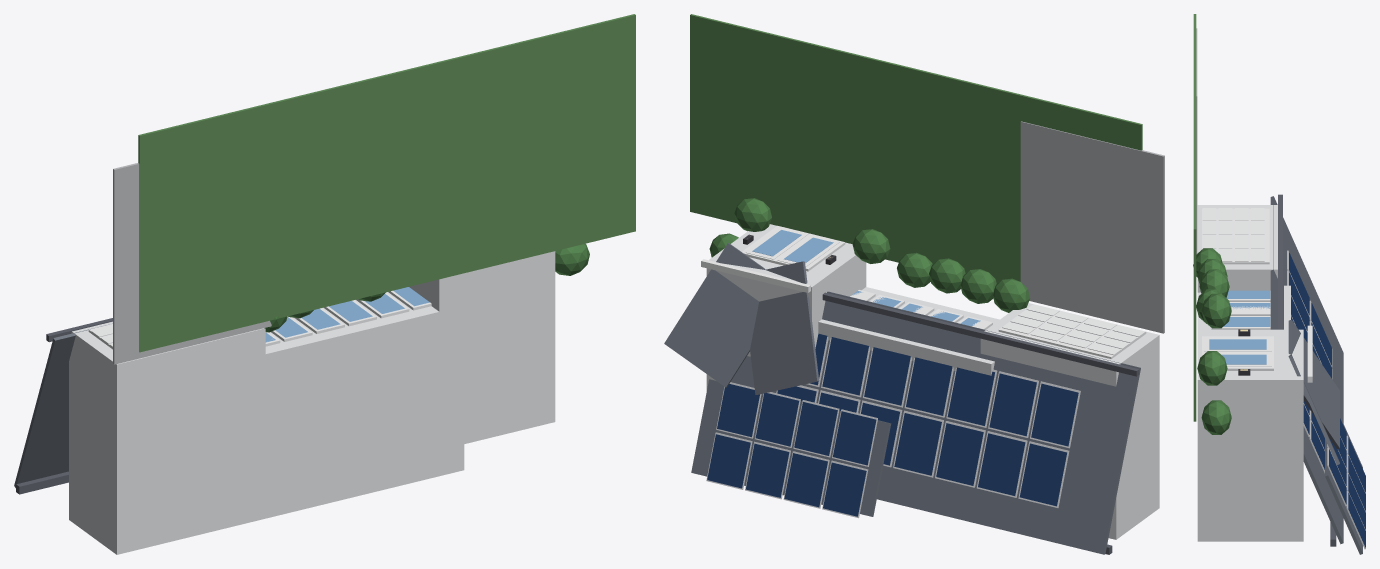
Rendered from house.glb.
3 renders of one model, left to right at view 1: azimuth 30°, elevation 25°; view 2: azimuth 150°, elevation 25°; view 3: azimuth 270°, elevation 25°, orthographic. The views are drawn at different scales.
Parts seen in each view (by area): view 1: Lawn_Front_Grass, Wall_Garage_Wing, Wall_Center_Living, Wall_Entrance_Pavilion, Driveway_Concrete, Roof_Main_Pitched, Shrub_6; view 2: Lawn_Front_Grass, Driveway_Concrete, Roof_Main_Pitched, Wall_Garage_Wing, Roof_Entrance_Gable_Right, Roof_Entrance_Gable_Left, Wall_Entrance_Pavilion, Roof_Clerestory_Upper, Wall_Center_Living, Roof_Front_Gutter, Solar_Glass_1_0, Solar_Glass_1_1 (+28 smaller); view 3: Wall_Entrance_Pavilion, Roof_Main_Pitched, Roof_Entrance_Gable_Left, Wall_Garage_Wing, Lawn_Front_Grass, Garage_Door_WhiteFrame, Shrub_4, Shrub_5, Shrub_6, Roof_Clerestory_Upper, Roof_Front_Gutter, Window_Door_Left (+26 smaller).
Boxes of the visible parts, <box> form: Lawn_Front_Grass: <box>138,14,635,352</box>; Wall_Garage_Wing: <box>69,321,265,554</box>; Wall_Center_Living: <box>249,292,464,518</box>; Wall_Entrance_Pavilion: <box>409,251,555,450</box>; Driveway_Concrete: <box>113,163,271,364</box>; Roof_Main_Pitched: <box>14,323,112,487</box>; Shrub_6: <box>555,243,589,275</box>; Lawn_Front_Grass: <box>690,14,1142,283</box>; Driveway_Concrete: <box>1020,121,1164,333</box>; Roof_Main_Pitched: <box>730,291,1140,554</box>; Wall_Garage_Wing: <box>980,303,1159,539</box>; Roof_Entrance_Gable_Right: <box>664,243,765,387</box>; Roof_Entrance_Gable_Left: <box>750,261,819,394</box>; Wall_Entrance_Pavilion: <box>706,224,866,390</box>; Roof_Clerestory_Upper: <box>691,379,891,516</box>; Wall_Center_Living: <box>818,287,999,375</box>; Roof_Front_Gutter: <box>822,292,1139,376</box>; Solar_Glass_1_0: <box>1031,383,1078,446</box>; Solar_Glass_1_1: <box>989,373,1036,436</box>; Wall_Entrance_Pavilion: <box>1197,329,1303,541</box>; Roof_Main_Pitched: <box>1270,196,1343,544</box>; Roof_Entrance_Gable_Left: <box>1288,320,1339,449</box>; Wall_Garage_Wing: <box>1197,205,1277,292</box>; Lawn_Front_Grass: <box>1193,14,1196,421</box>; Garage_Door_WhiteFrame: <box>1202,208,1269,264</box>; Shrub_4: <box>1201,293,1231,328</box>; Shrub_5: <box>1197,351,1227,385</box>; Shrub_6: <box>1201,400,1231,434</box>; Roof_Clerestory_Upper: <box>1325,416,1362,554</box>; Roof_Front_Gutter: <box>1278,194,1282,329</box>; Window_Door_Left: <box>1209,339,1266,349</box>.
Bounding box in the file's own units: 13.05 × 9.6 × 4.07.
